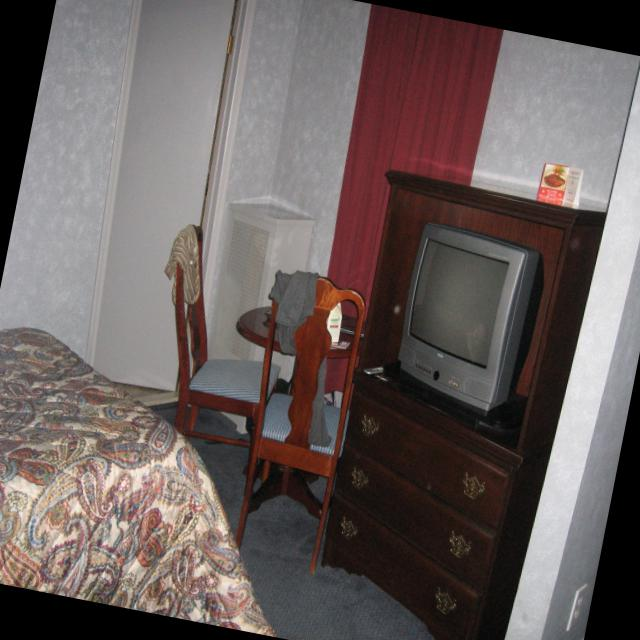bed -occluded-: (0, 325, 279, 636)
chair -occluded-: (235, 274, 363, 572), (173, 226, 281, 466)
television cabinet: (397, 223, 545, 421)
